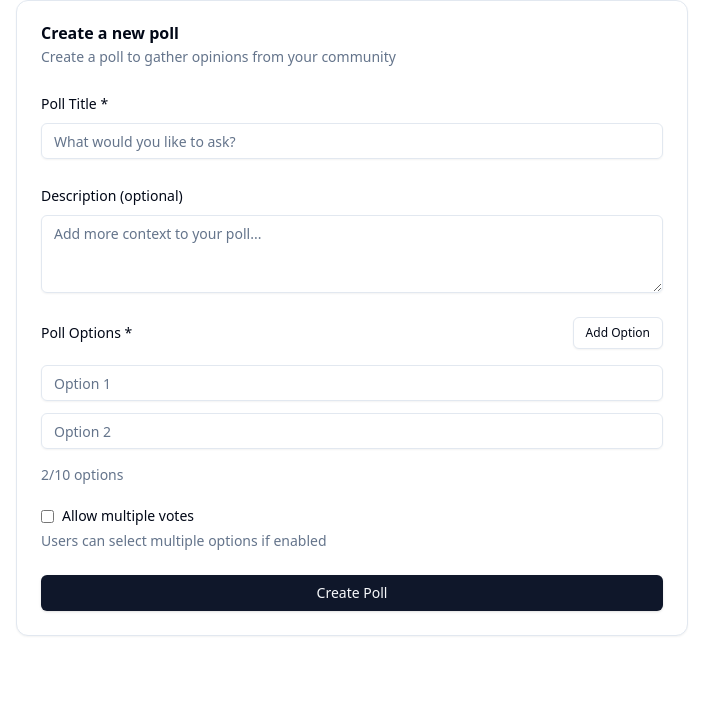
CreatePollForm › Poll Options Management › removes option when Remove button is clicked
// Add an option first
Click the button "Add Option": click(618, 333) [573,317,663,349]
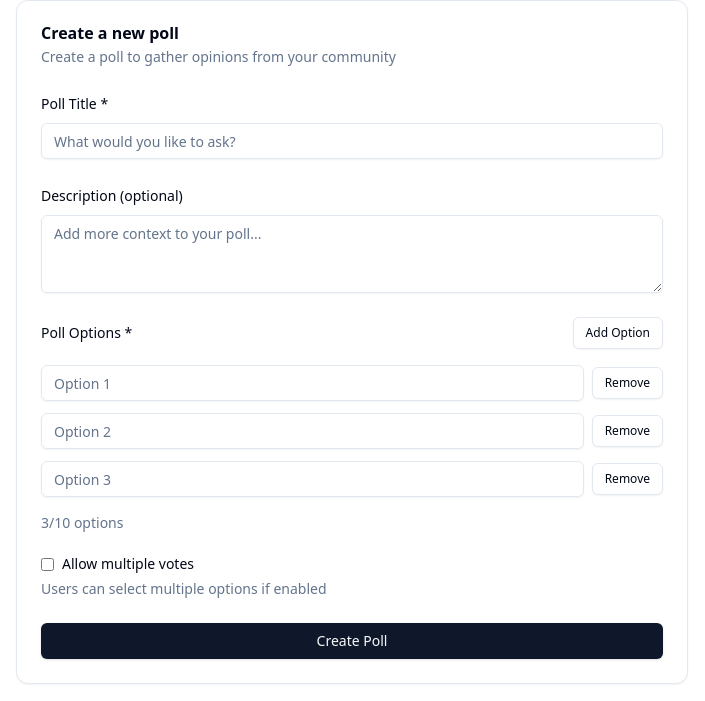
// Now remove it
Click the 1st button "Remove": click(627, 383) [592,367,663,399]
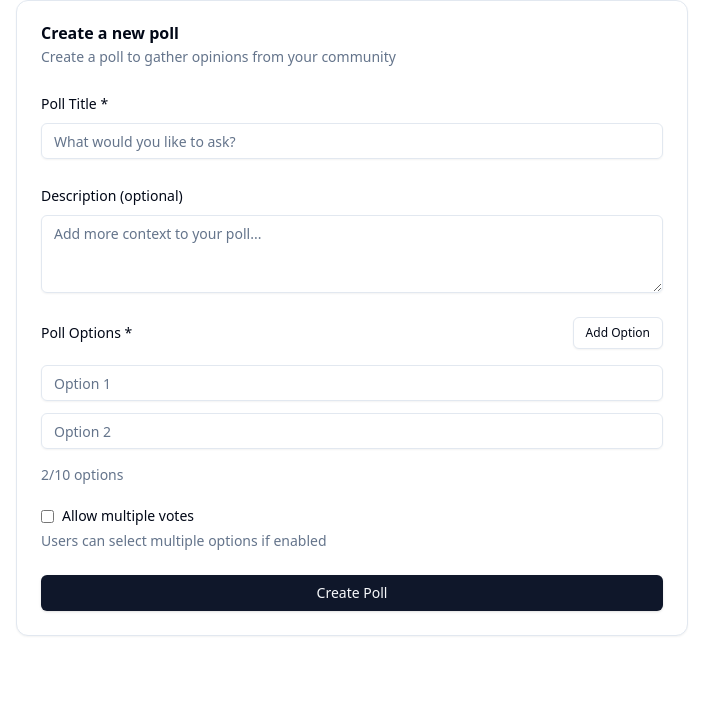
Check: the number of fields with placeholder "Option 1" is 2, box [41,365,663,401]; [41,413,663,449]
